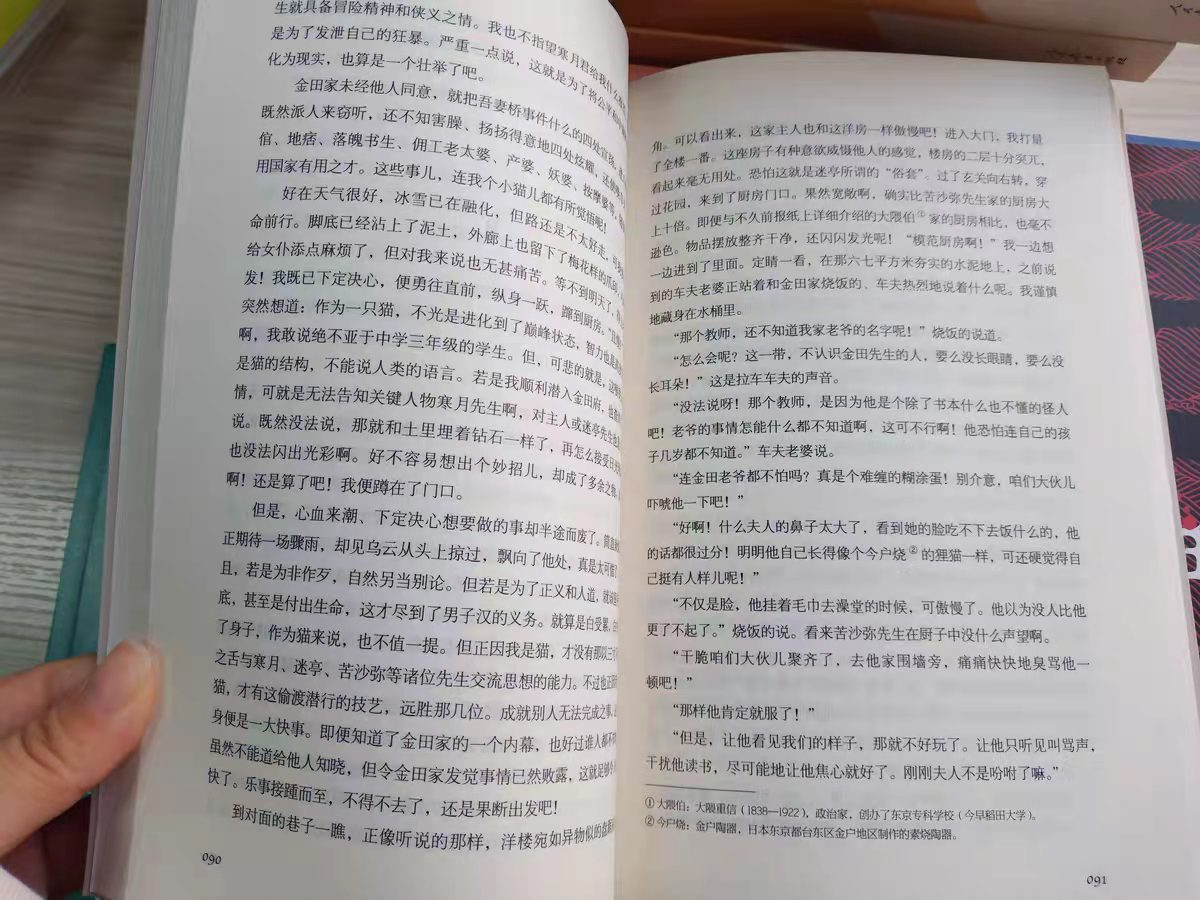book: (61, 0, 1200, 900)
